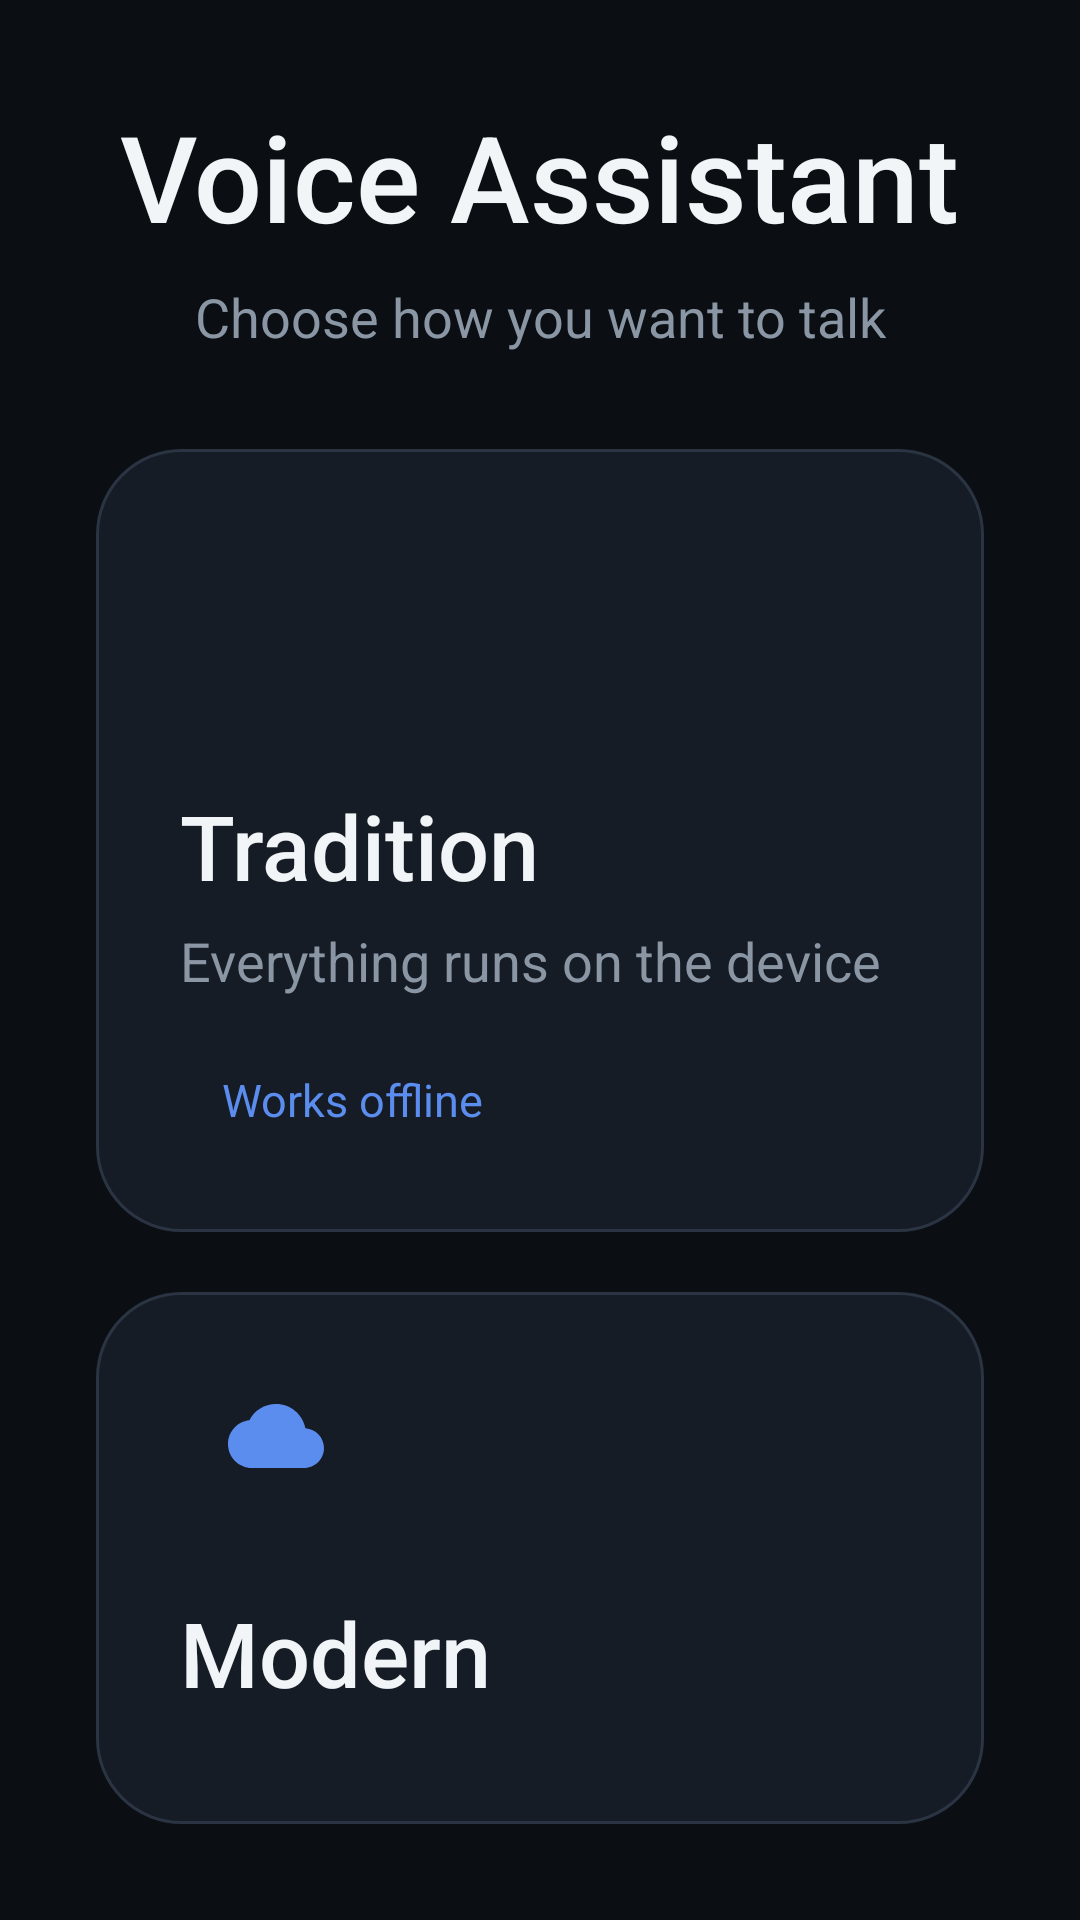

Icons on this 1080 x 1920 Android screen, each with the point to tap as (x,y):
cloud: (276,1436)
